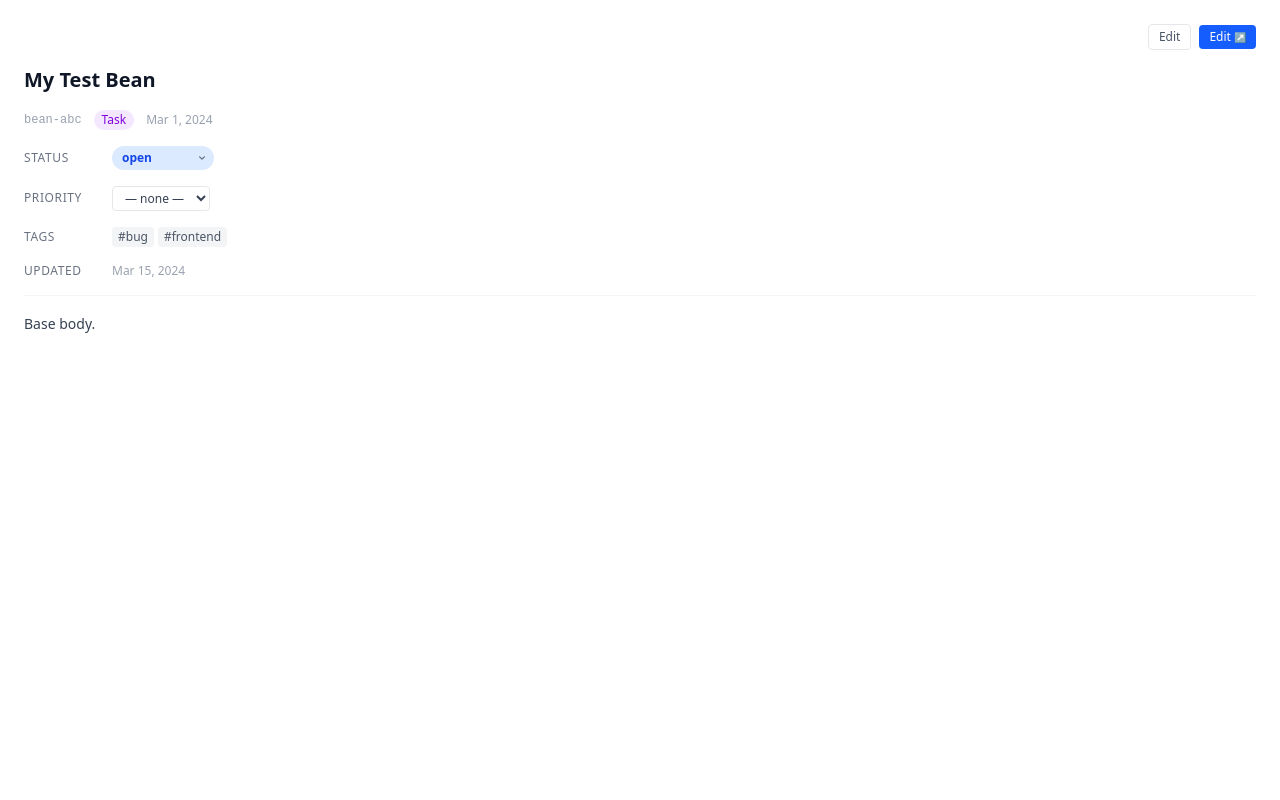
it: BeanDetail conflict handling (beanstalk-ep8j) › keeps the typed text and explains when the save is refused
This screenshot has width=1280, height=800.
Step 1. Click the button "Edit" → (1170, 37), box [1148, 24, 1191, 50]
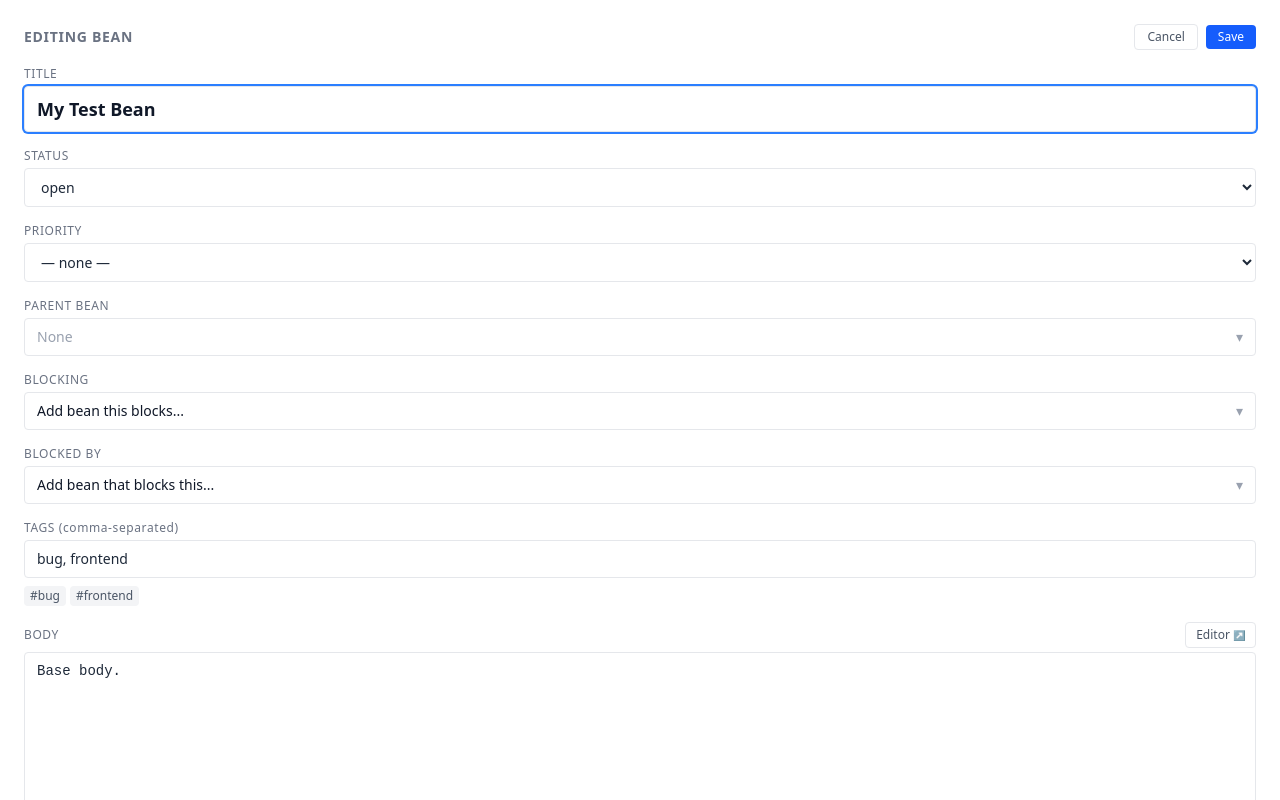
Step 2. Replace the text in the field with placeholder "Bean title" below "Title" with "My careful edit" → (640, 109), box [24, 86, 1256, 132]
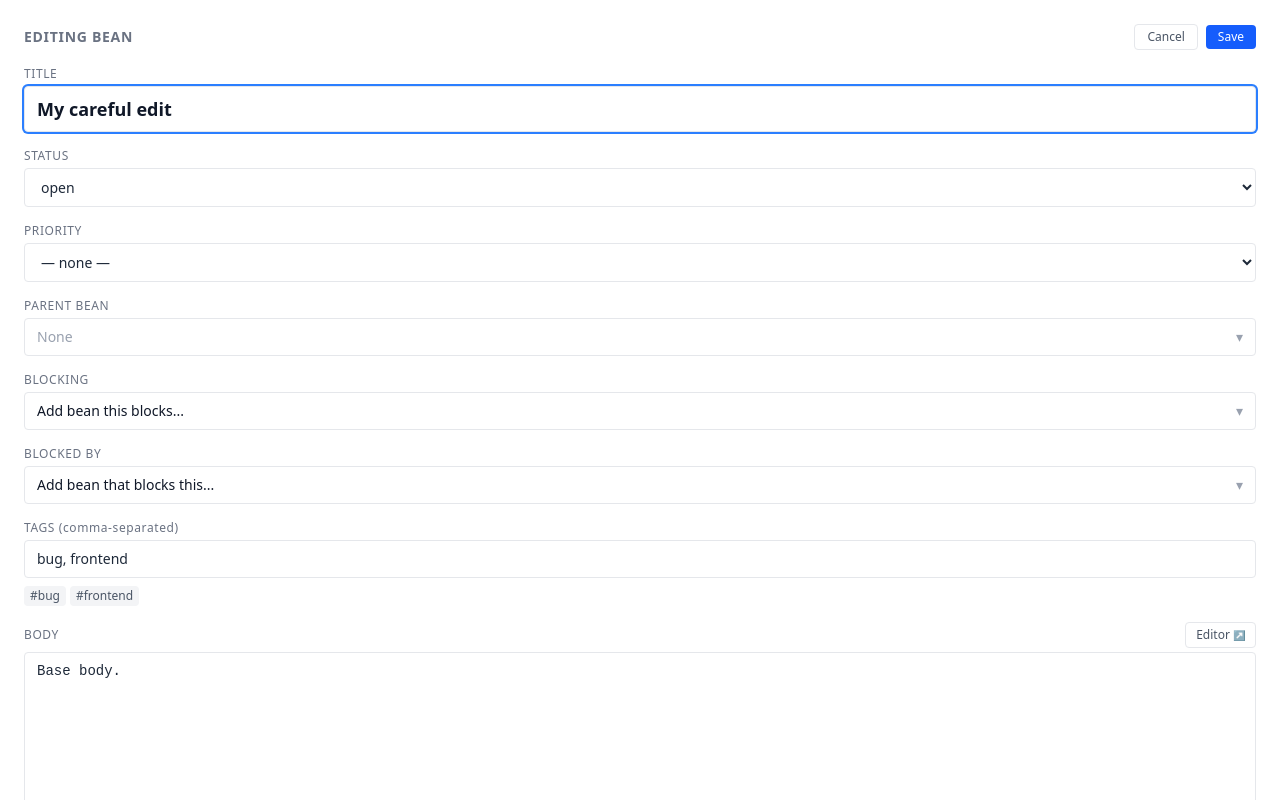
Step 3. Click the button "Save" → (1231, 37), box [1206, 25, 1256, 49]
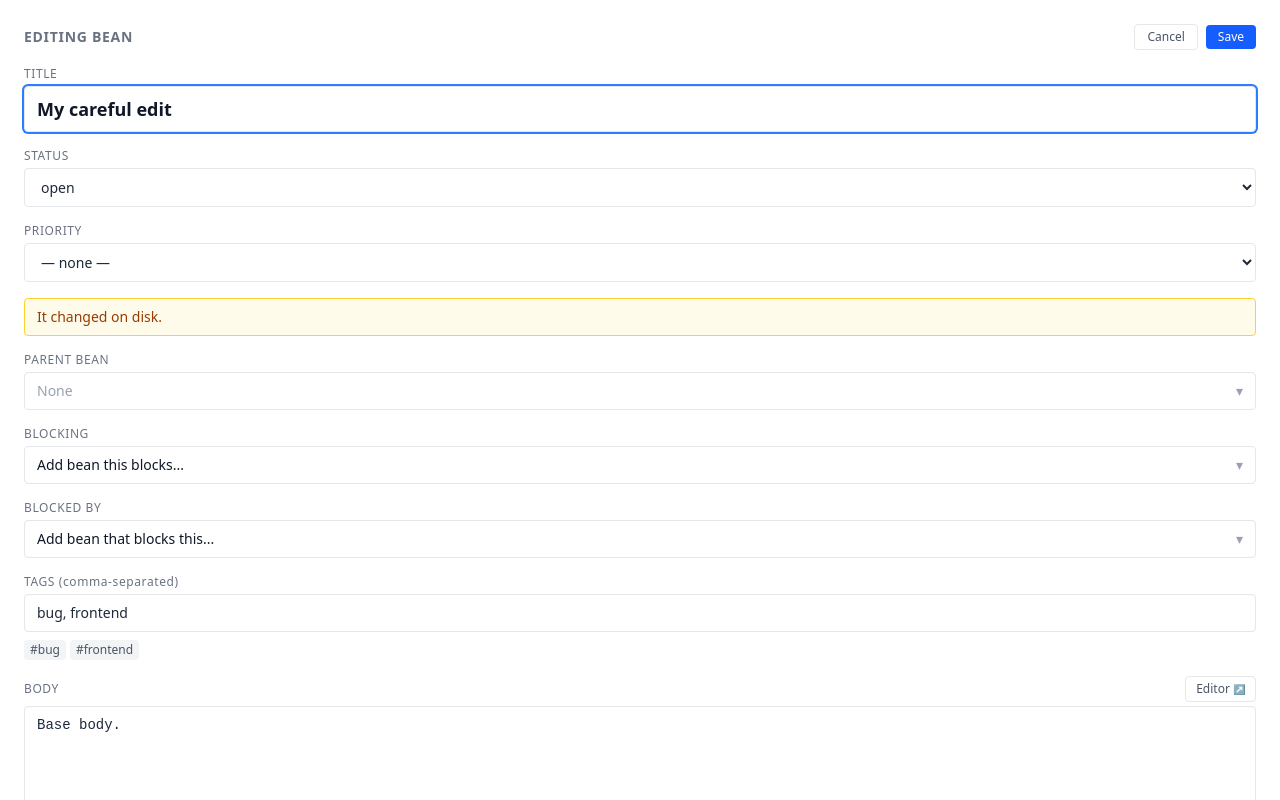
Result: the message reads "It changed on disk." at [37, 307, 162, 326]
